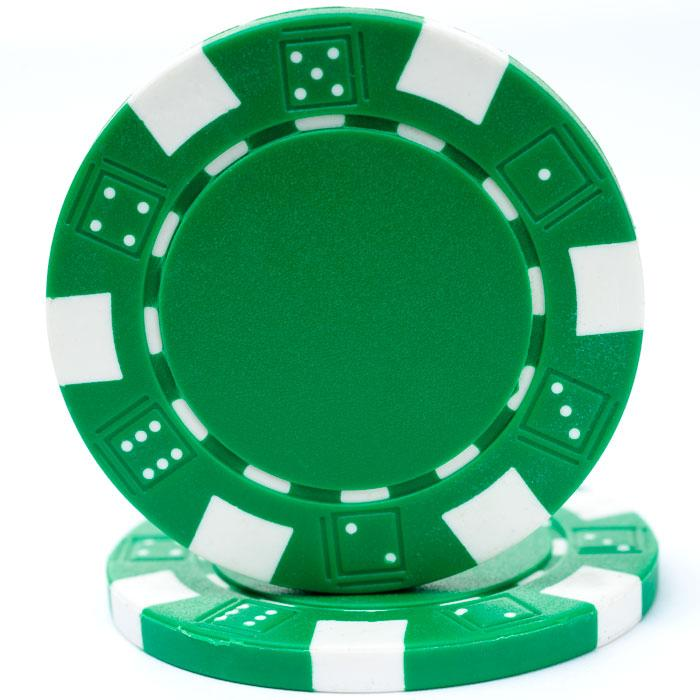chip-green: (46, 8, 644, 594), (107, 510, 658, 692)
